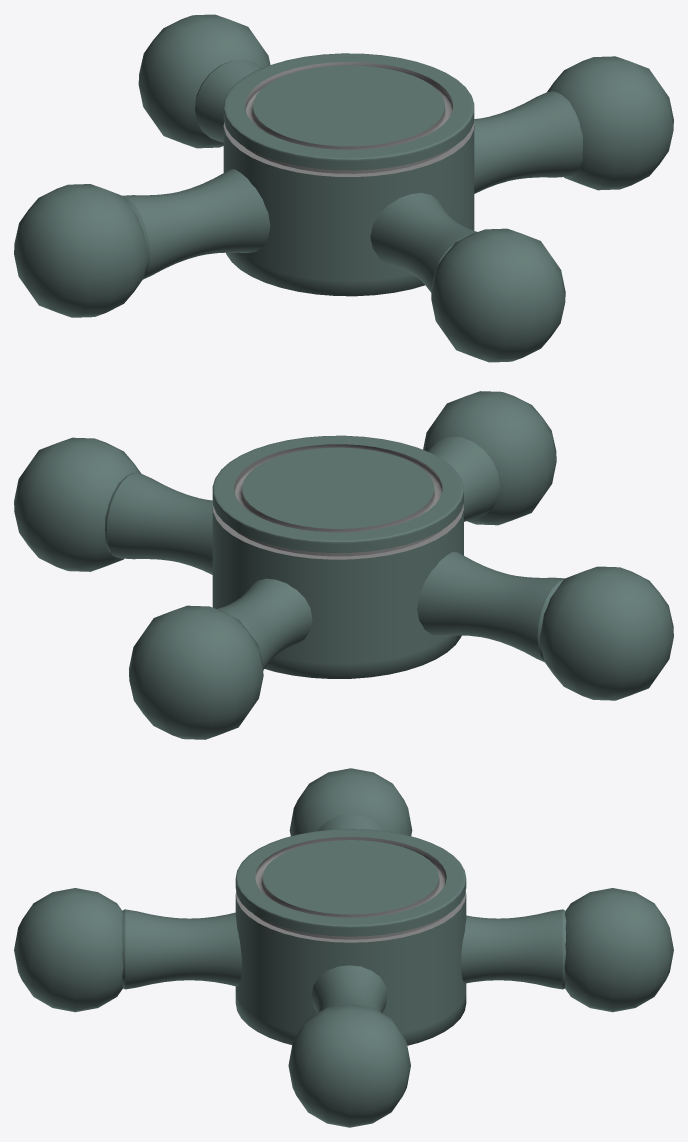
Rendered from llave.fbx.
The picture shows the model from 3 angles, top to bottom: view 1: azimuth 30°, elevation 25°; view 2: azimuth 150°, elevation 25°; view 3: azimuth 270°, elevation 25°; orthographic projection. The views are drawn at different scales.
Parts seen in each view (by area): view 1: Llave; view 2: Llave; view 3: Llave.
Part boxes in pixels (x1,y1,x2,y2): Llave: (14, 14, 673, 362); Llave: (14, 391, 673, 739); Llave: (14, 768, 673, 1127).
Bounding box in the file's own units: 51.85 × 10.84 × 50.38.
